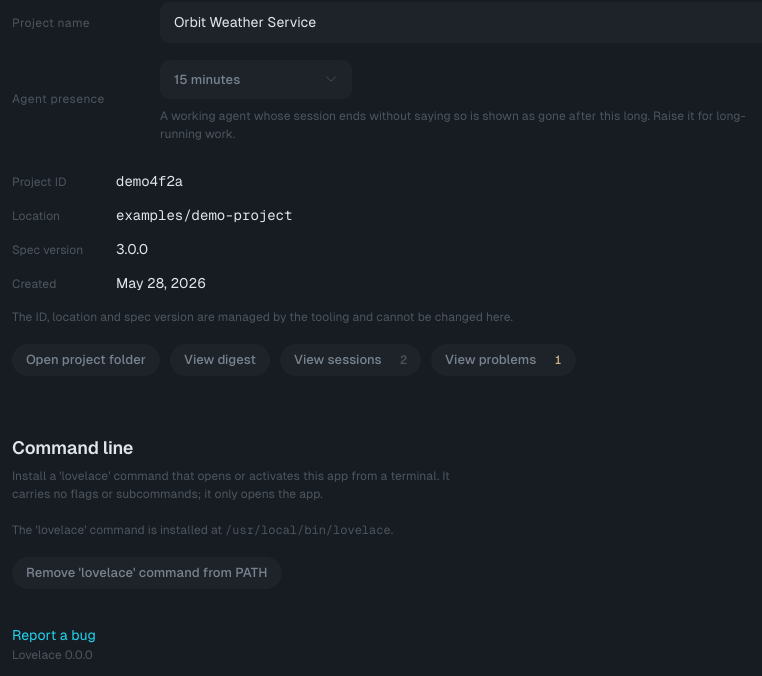
GeneralSettings command line › installed: shows the location and remove button, removes on click, then shows not-installed
Expected: the element with test id "cli-status-summary" shows "/usr/local/bin/lovelace", [225, 522, 391, 538]
Click the button "Remove 'lovelace' command from PATH". click: (147, 573)
box: [12, 557, 282, 589]
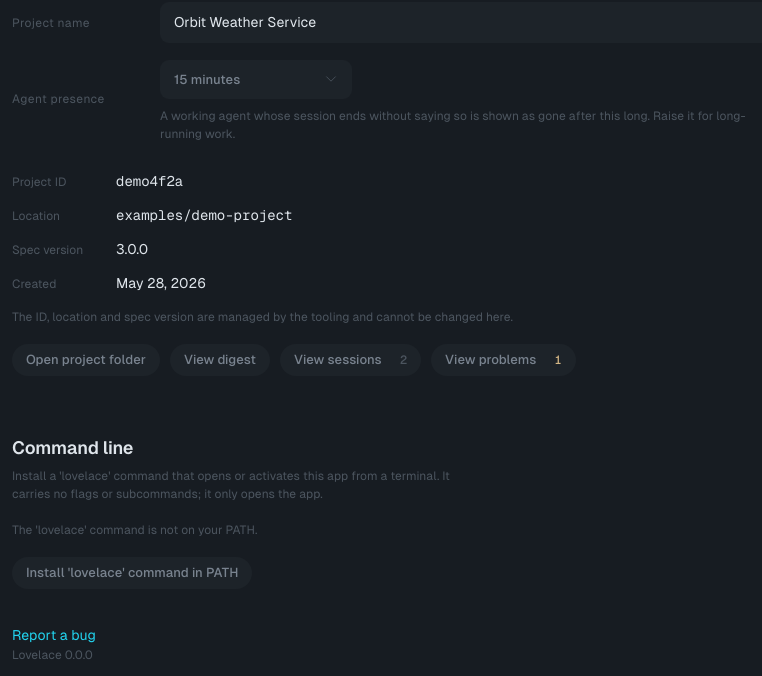
Expected: the button "Install 'lovelace' command in PATH" is shown, [12, 557, 252, 589]
